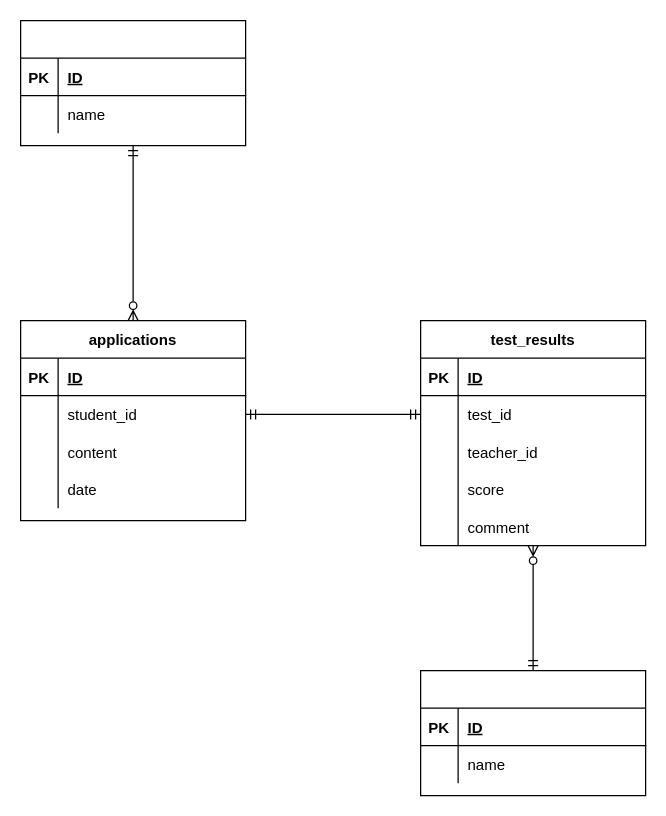
The diagram is 666 pixels wide and 816 high, and some of its shapes have lost their labels. The shapes that lost their labels are listed below. From the top down, each one's box as (x1, y1, x2, y2) in pixels, then its label:
(19, 19, 246, 146): students
(419, 669, 646, 796): teachers
